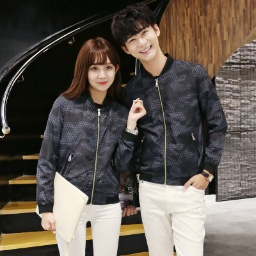face: (74, 38, 124, 104), (113, 9, 167, 64)
